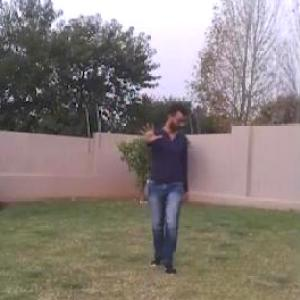follow_hand: (136, 117, 163, 143)
